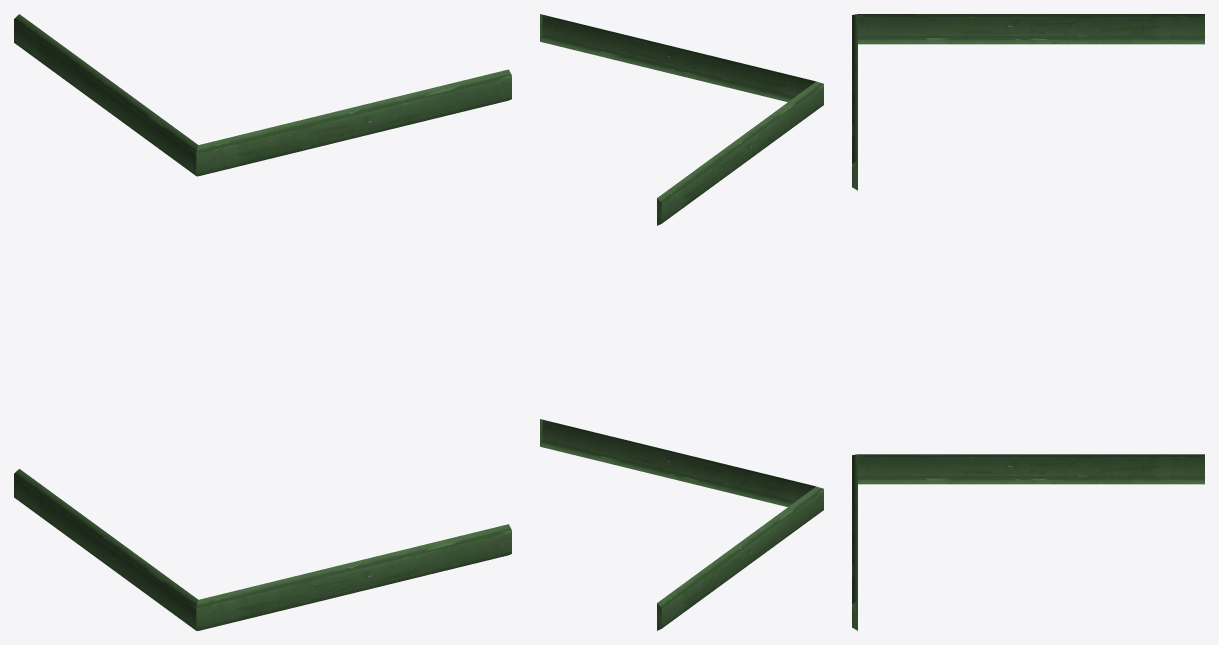
The model's file is MB_Molding_F_Angle_01.fbx.
The picture shows the model from 3 angles, left to right: view 1: azimuth 30°, elevation 25°; view 2: azimuth 150°, elevation 25°; view 3: azimuth 270°, elevation 25°; orthographic projection. The views are drawn at different scales.
Parts seen in each view (by area): view 1: MB_Molding_Angle_F_01; view 2: MB_Molding_Angle_F_01; view 3: MB_Molding_Angle_F_01.
Part boxes in pixels (<box>): MB_Molding_Angle_F_01: <box>14,14,511,630</box>; MB_Molding_Angle_F_01: <box>540,14,823,630</box>; MB_Molding_Angle_F_01: <box>852,14,1204,630</box>.
Bounding box in the file's own units: 203 × 299 × 203.
